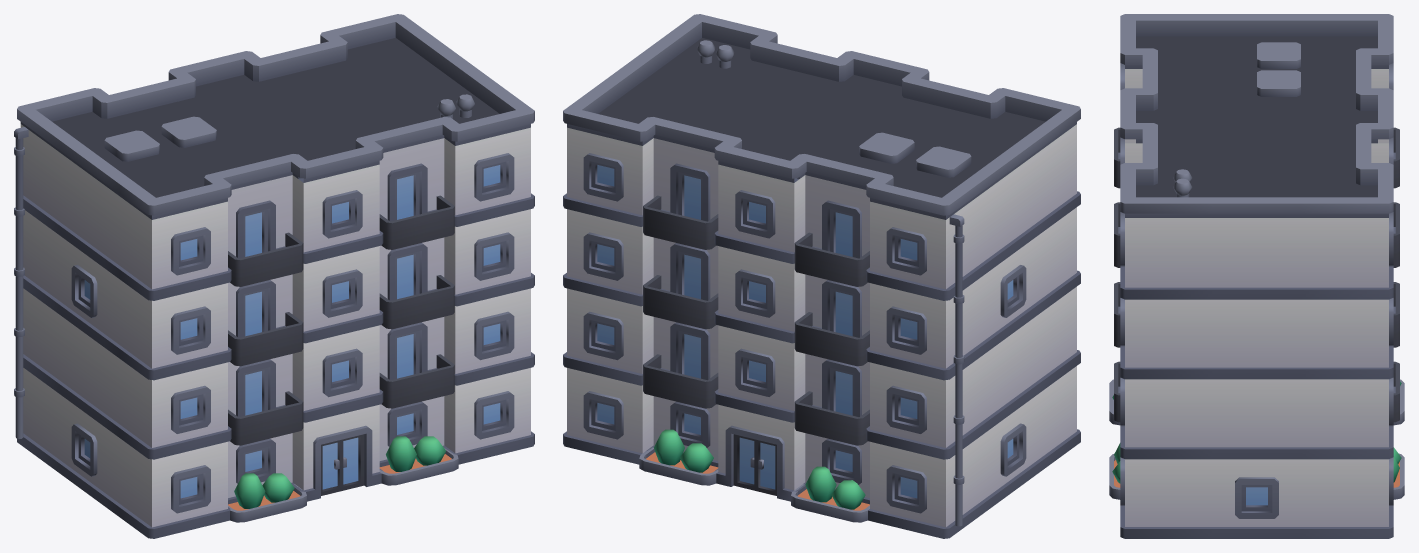
File: building-j.glb
3 renders of one model, left to right at view 1: azimuth 30°, elevation 25°; view 2: azimuth 150°, elevation 25°; view 3: azimuth 270°, elevation 25°, orthographic.
Parts seen in each view (by area): view 1: building-j; view 2: building-j; view 3: building-j.
Part boxes in pixels (bbox=[...]): building-j: bbox=[14, 14, 534, 538]; building-j: bbox=[563, 14, 1080, 538]; building-j: bbox=[1109, 14, 1404, 538].
Bounding box in the file's own units: 2.08 × 1.69 × 1.34.
1 material, 1 textured.
